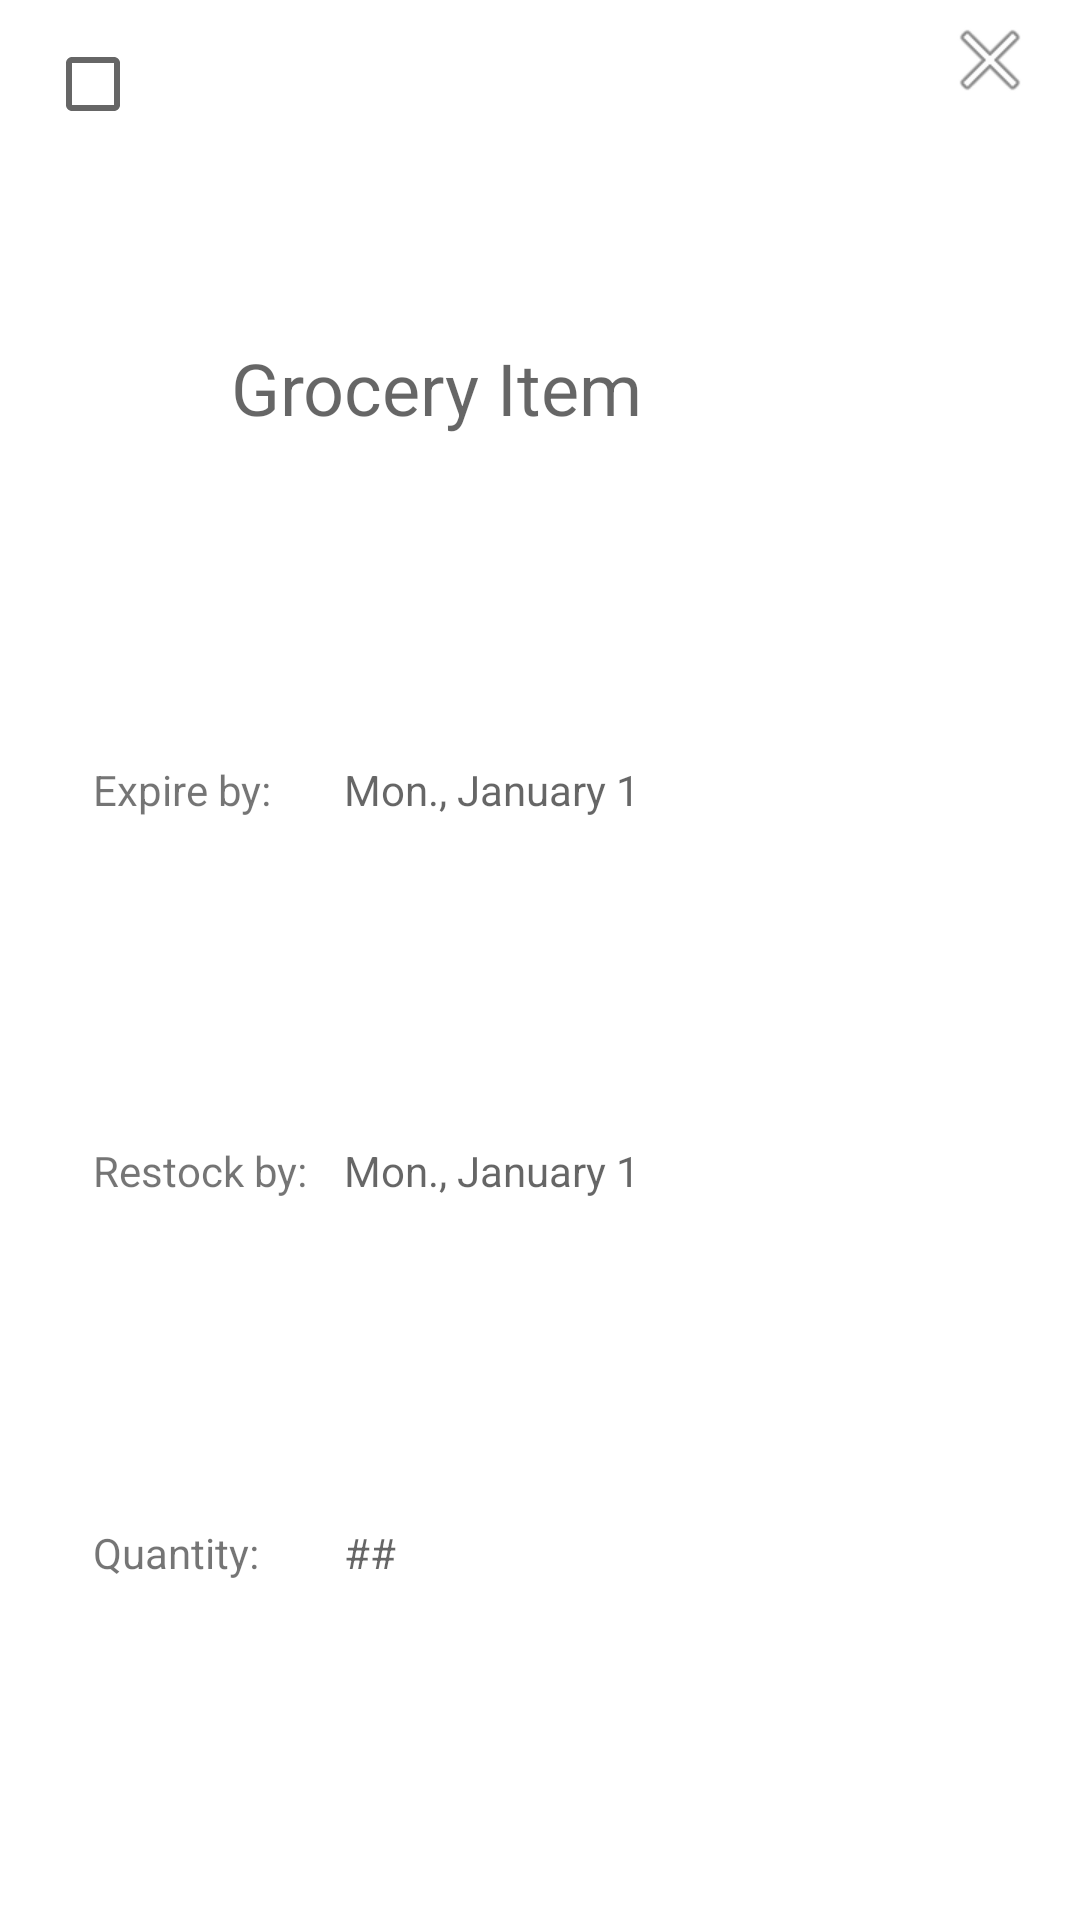

Icon click points for this 1080 × 1920 phone screenshot, format (x,y):
close clear cancel: (990,60)
